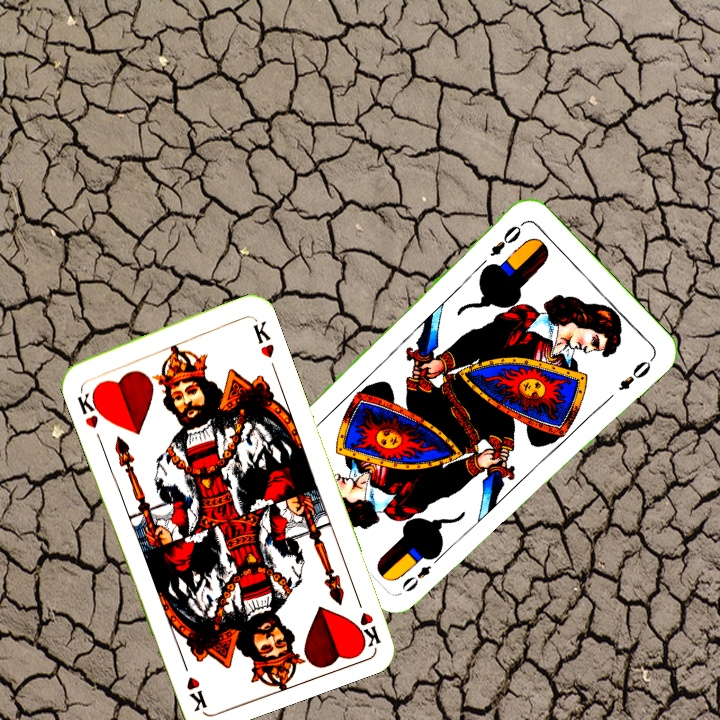EO: (397, 549, 445, 595), (486, 218, 527, 260)
HK: (351, 590, 383, 650), (73, 381, 107, 431)
